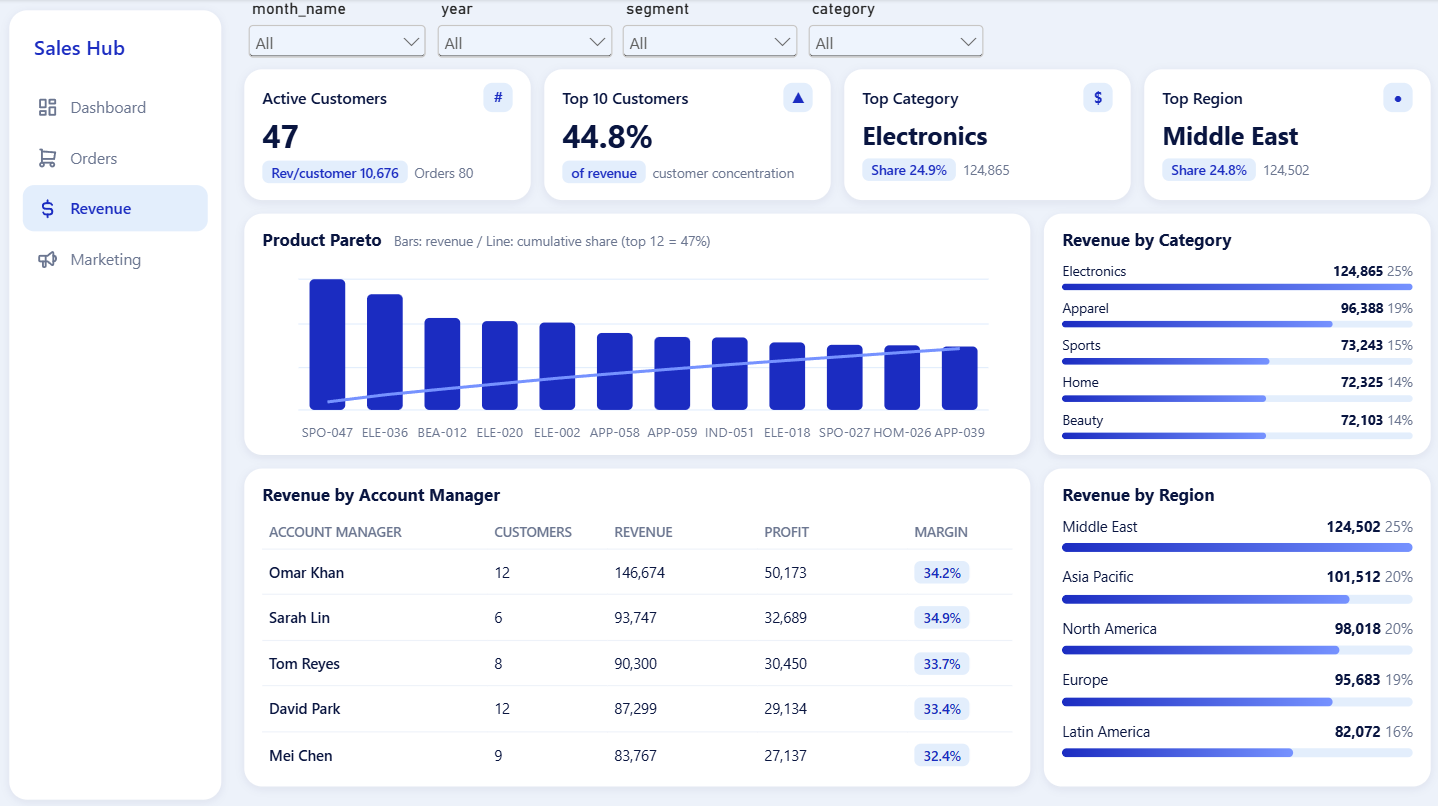

This screenshot's page, from the dashboard's own definition file:
{"tool":"powerbi","page":{"name":"Revenue","canvas":[1280,720],"ordinal":2},"visuals":[{"type":"htmlContent443BE3AD55E043BF878BED274D3A6855","fields":{"content":["dashboard.HTML Page 3"]},"box":[208,52,1072,668],"z":0},{"type":"htmlContent443BE3AD55E043BF878BED274D3A6855","fields":{"content":["dashboard.HTML Sidebar Revenue"]},"box":[0,0,208.4,719.6],"z":1000},{"type":"actionButton","box":[23.1,76.3,162.3,39.9],"z":2000},{"type":"actionButton","box":[23.1,122.4,162.3,39.9],"z":3000},{"type":"actionButton","box":[23.1,211.9,162.3,39.9],"z":4000},{"type":"slicer","fields":{"Values":["dim_date.month_name"]},"box":[217.1,0,167.3,51.6],"z":4001},{"type":"slicer","fields":{"Values":["dim_date.year"]},"box":[384.5,0,164.6,51.6],"z":4002},{"type":"slicer","fields":{"Values":["dim_customers.segment"]},"box":[549.1,0,164.6,51.6],"z":4003},{"type":"slicer","fields":{"Values":["dim_products.category"]},"box":[713.7,0,164.6,51.6],"z":4004}]}

Visuals, with their boxes in screenshot pixels (x1, y1, x2, y2), scaled from the page's 1280x720 canvas onto the 1438x806 screenshot:
htmlContent443BE3AD55E043BF878BED274D3A6855 - dashboard.HTML Page 3: box(234, 58, 1437, 805)
htmlContent443BE3AD55E043BF878BED274D3A6855 - dashboard.HTML Sidebar Revenue: box(0, 0, 234, 805)
actionButton: box(26, 85, 208, 130)
actionButton: box(26, 137, 208, 182)
actionButton: box(26, 237, 208, 282)
slicer - dim_date.month_name: box(244, 0, 432, 58)
slicer - dim_date.year: box(432, 0, 617, 58)
slicer - dim_customers.segment: box(617, 0, 802, 58)
slicer - dim_products.category: box(802, 0, 987, 58)
